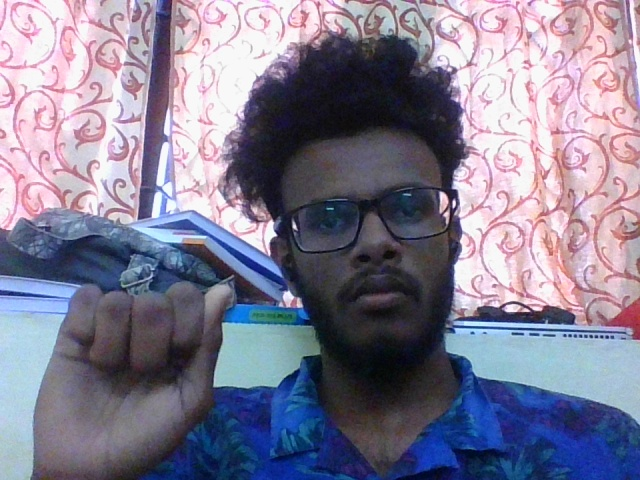yes: (3, 275, 248, 480)
